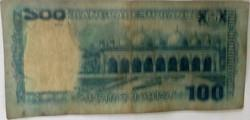100 taka: (2, 2, 244, 106)
